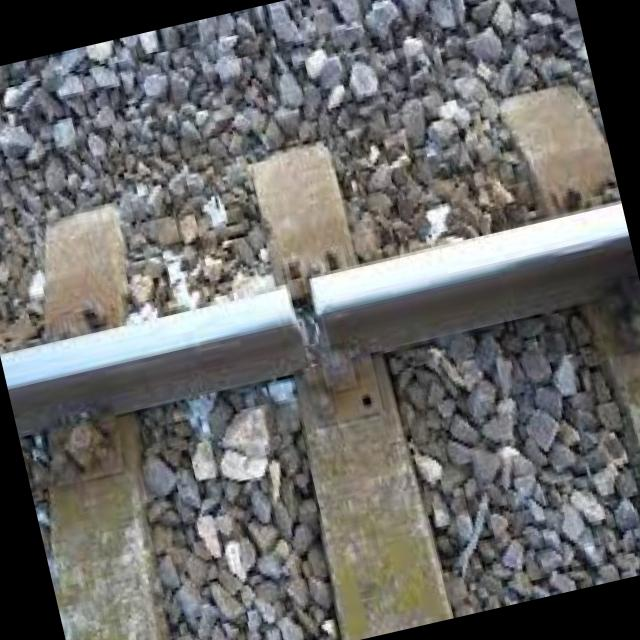defective: (71, 65, 640, 558)
